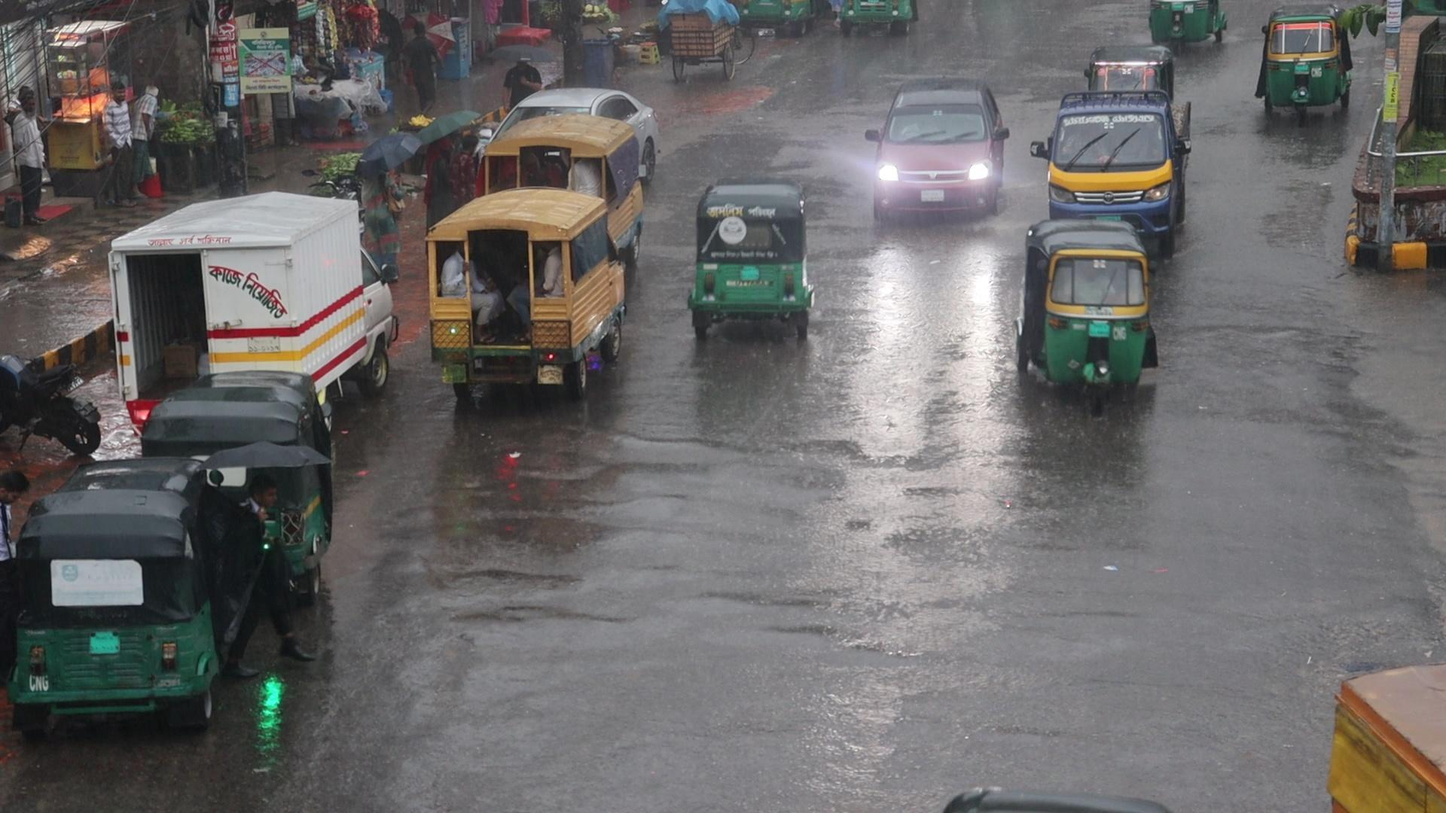Car: (865, 75, 1010, 221)
Truck: (422, 187, 626, 407), (1030, 87, 1193, 219)
